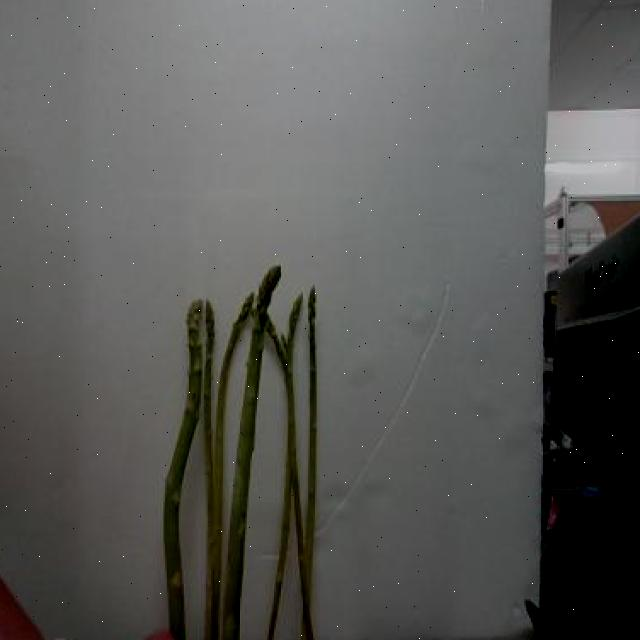aspargus: (222, 265, 281, 640), (162, 301, 203, 640)
